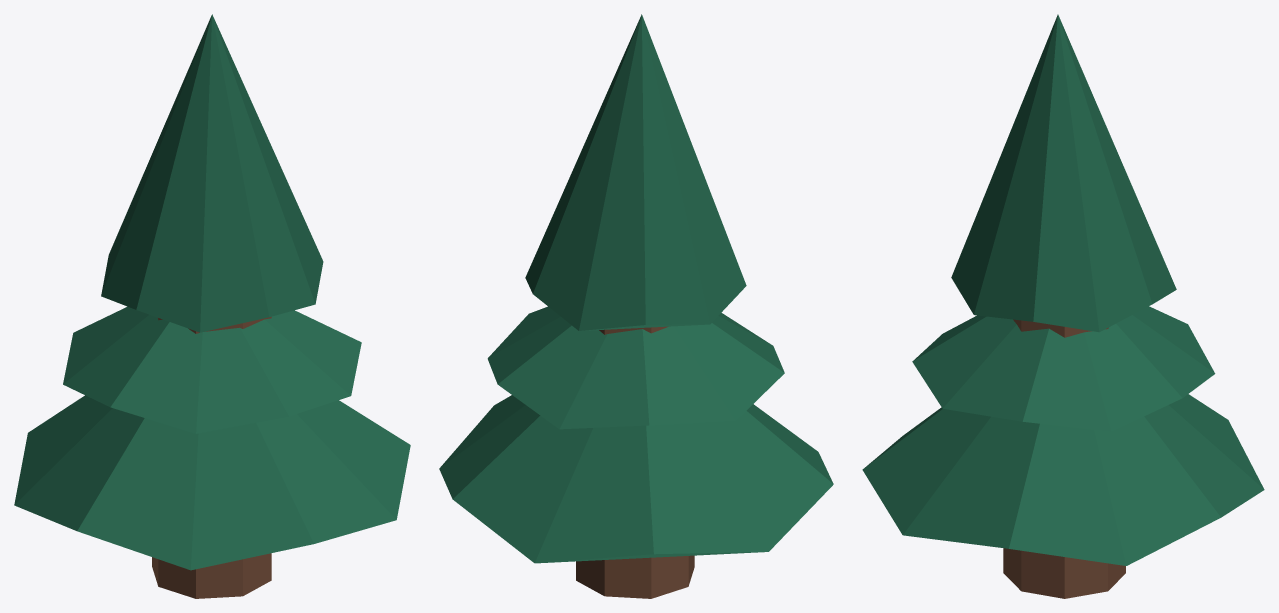
The model's file is Elka1.fbx.
3 renders of one model, left to right at view 1: azimuth 30°, elevation 25°; view 2: azimuth 150°, elevation 25°; view 3: azimuth 270°, elevation 25°, orthographic.
Visible parts, largest first — view 1: Cone.002, Cylinder; view 2: Cone.002, Cylinder; view 3: Cone.002, Cylinder.
Part boxes in pixels (left/top/right/bottom): Cone.002: left=14, top=14, right=410, bottom=570; Cylinder: left=152, top=316, right=271, bottom=598; Cone.002: left=439, top=14, right=833, bottom=563; Cylinder: left=576, top=326, right=694, bottom=598; Cone.002: left=862, top=14, right=1264, bottom=565; Cylinder: left=1003, top=319, right=1125, bottom=598.
Bounding box in the file's own units: 341 × 543 × 355.
